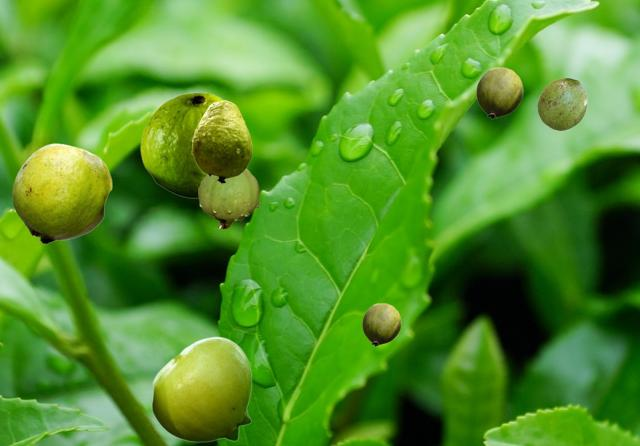guava: (151, 336, 251, 441), (12, 143, 111, 243), (140, 92, 223, 197), (191, 100, 251, 182), (198, 168, 258, 228), (537, 78, 586, 129), (476, 67, 522, 118), (362, 303, 400, 345)
